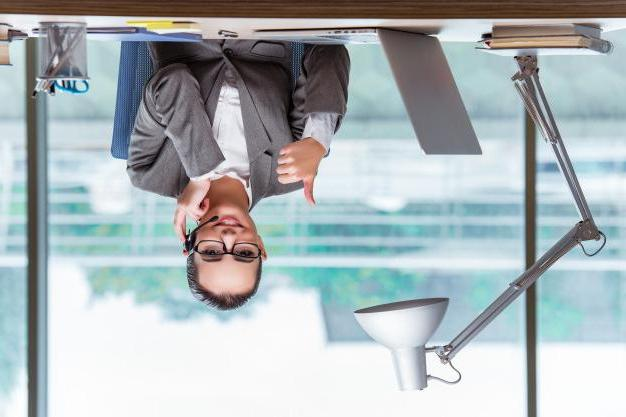thumbsdown: (276, 146, 315, 206)
